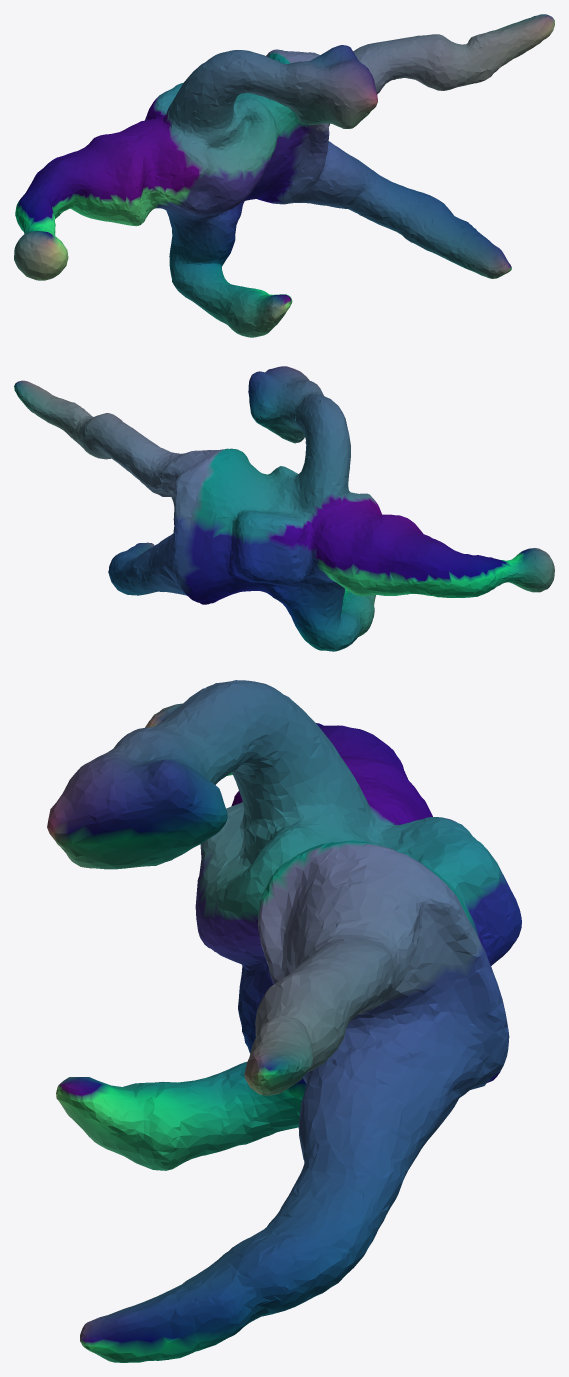
Rendered from santa-20.off.obj.
3 views of the same model, one above another, from view 1: azimuth 30°, elevation 25°; view 2: azimuth 150°, elevation 25°; view 3: azimuth 270°, elevation 25° (orthographic). The views are drawn at different scales.
Bounding box in the file's own units: 1.72 × 0.7842 × 0.6825.
